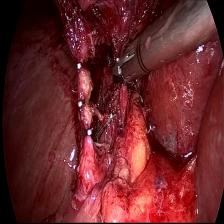Clipper: (109, 33, 145, 94)
